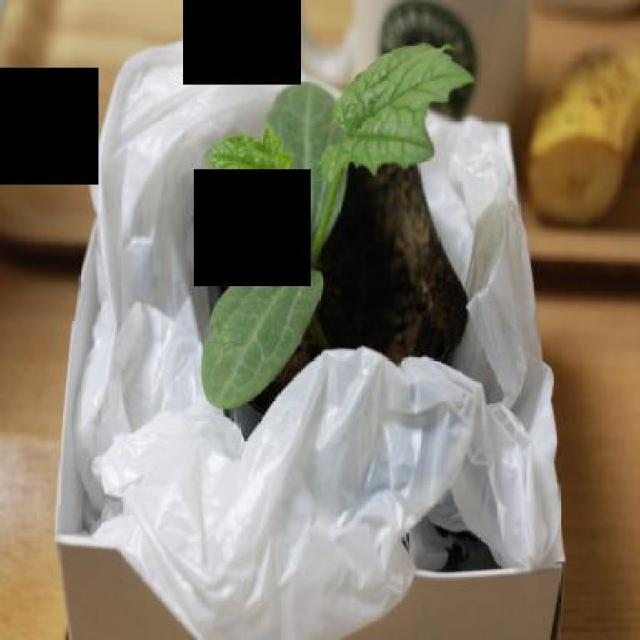plastic bag: (69, 21, 565, 638)
